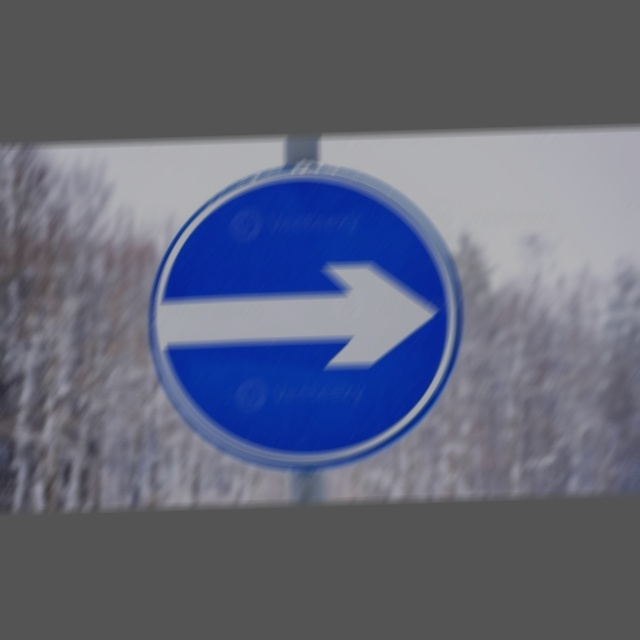Compulsory_Turn_Right: (145, 160, 467, 469)
